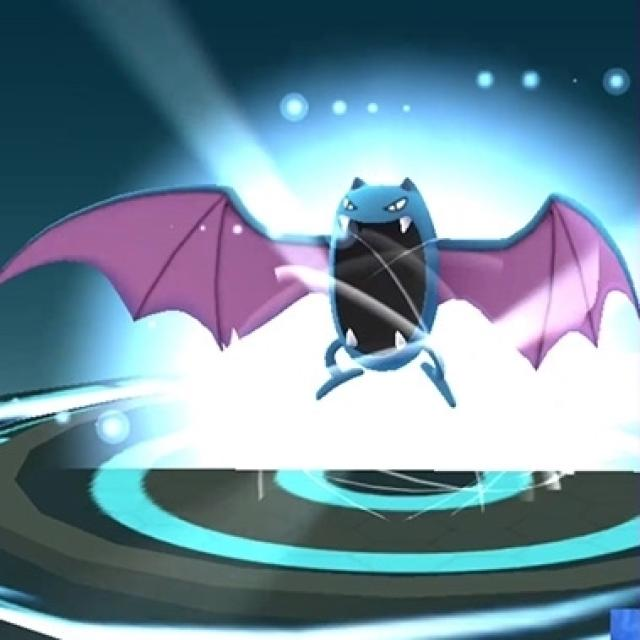Golbat: (215, 170, 569, 401)
